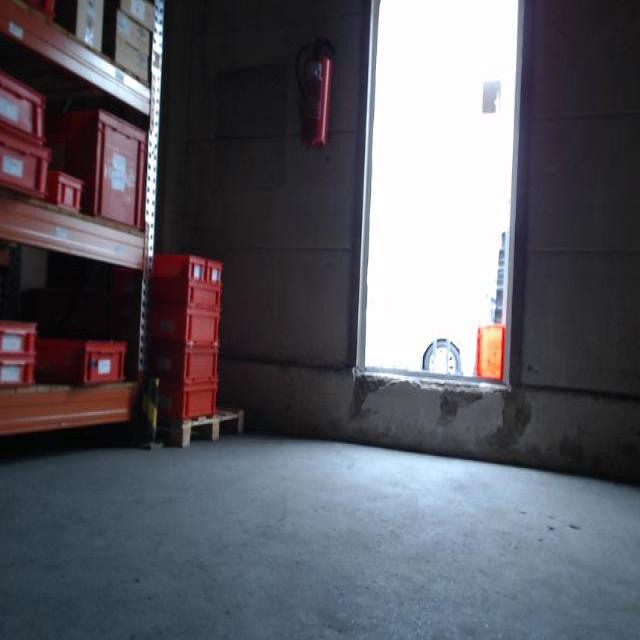pallet: (156, 406, 249, 448)
small_load_carrier: (54, 103, 150, 238), (36, 335, 129, 385), (2, 126, 58, 204), (2, 69, 50, 143), (149, 382, 218, 429), (146, 308, 223, 344), (148, 344, 219, 379), (149, 280, 222, 307), (150, 248, 204, 283), (2, 317, 45, 360), (50, 168, 83, 215), (0, 358, 35, 391), (206, 258, 225, 285)
